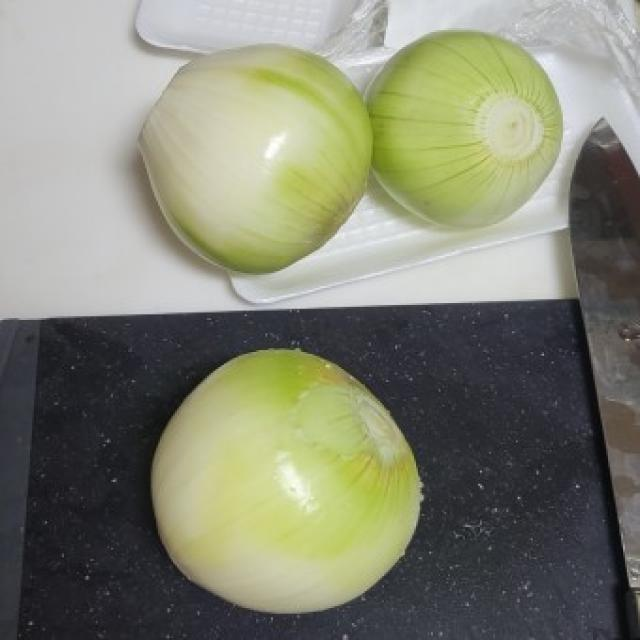onion: (138, 334, 456, 636), (121, 35, 375, 275), (379, 34, 566, 230)
